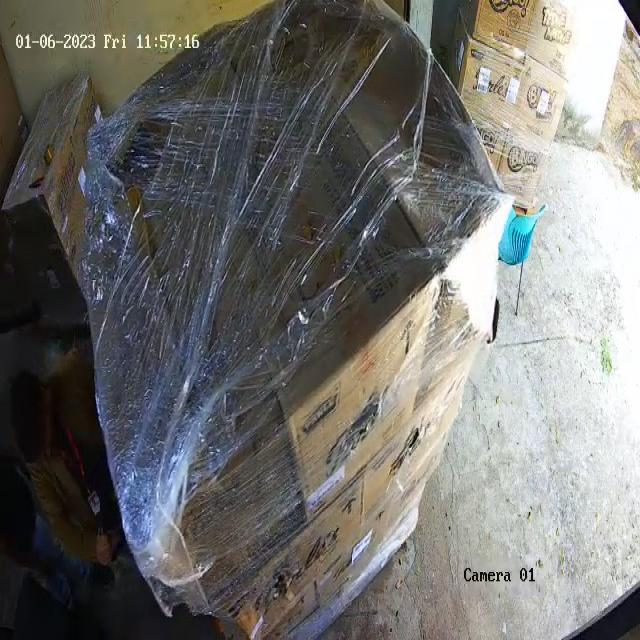leakage: (254, 565, 298, 612), (394, 415, 423, 476)
squeeze: (456, 220, 500, 329)
